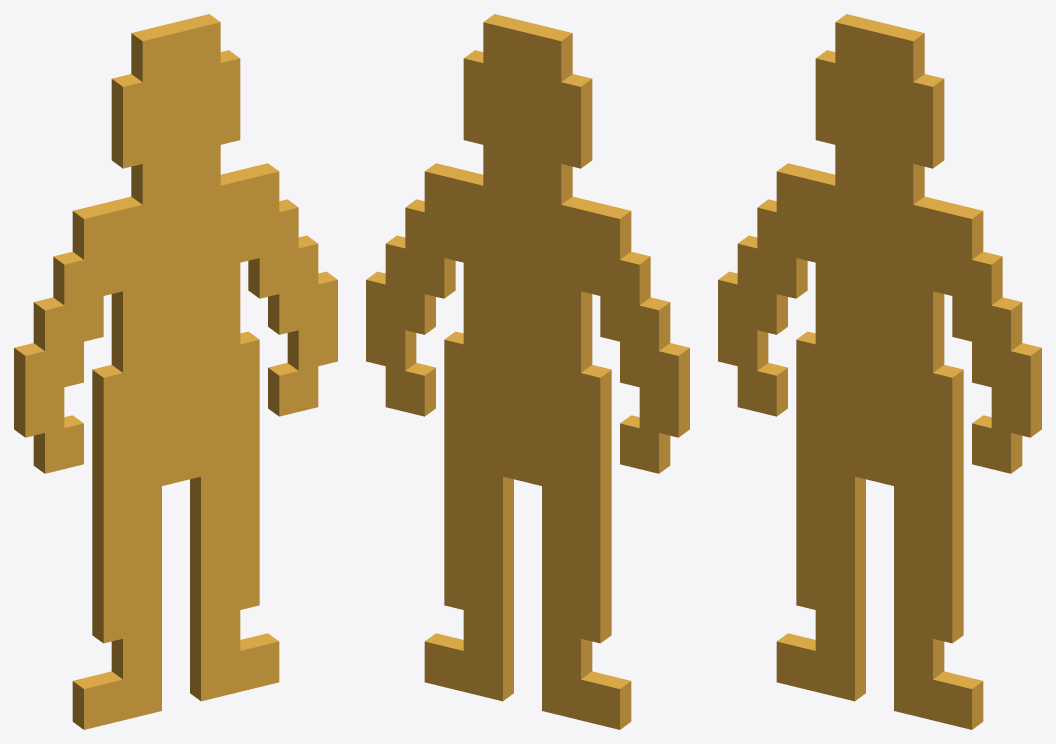
The model's file is Giant-Orange.vox.obj.
3 views of the same model, side by side, from view 1: azimuth 30°, elevation 25°; view 2: azimuth 150°, elevation 25°; view 3: azimuth 330°, elevation 25° (orthographic).
Bounding box in the file's own units: 1.6 × 3.3 × 0.1.
Materials: 1 (1 with a texture image).
